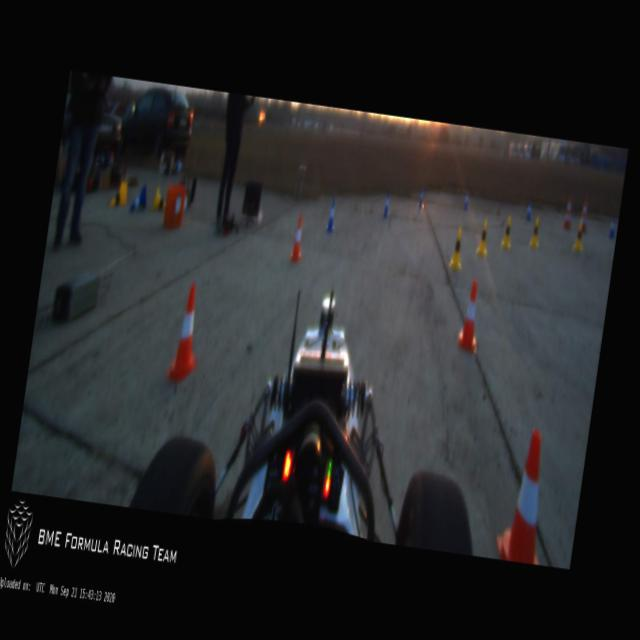blue_cone: (128, 181, 150, 213), (326, 198, 338, 232), (382, 192, 392, 217), (525, 200, 533, 222), (608, 218, 616, 240), (462, 190, 470, 211), (418, 188, 425, 208)
large_orange_cone: (564, 196, 574, 228), (580, 202, 589, 232)
orange_cone: (493, 424, 557, 564), (166, 283, 208, 382), (456, 278, 486, 354), (290, 216, 307, 261)
yellow_cone: (449, 228, 466, 269), (476, 218, 492, 256), (110, 180, 130, 206), (528, 216, 542, 250), (501, 216, 514, 251), (572, 222, 586, 252), (152, 184, 168, 210)
